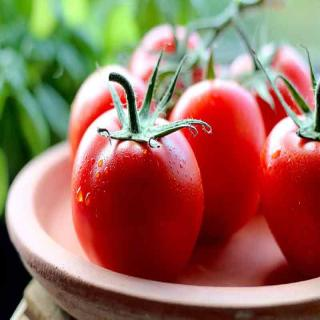Tomat: (71, 45, 213, 282), (169, 78, 267, 242), (260, 50, 320, 279), (130, 23, 211, 110), (253, 45, 317, 138)
